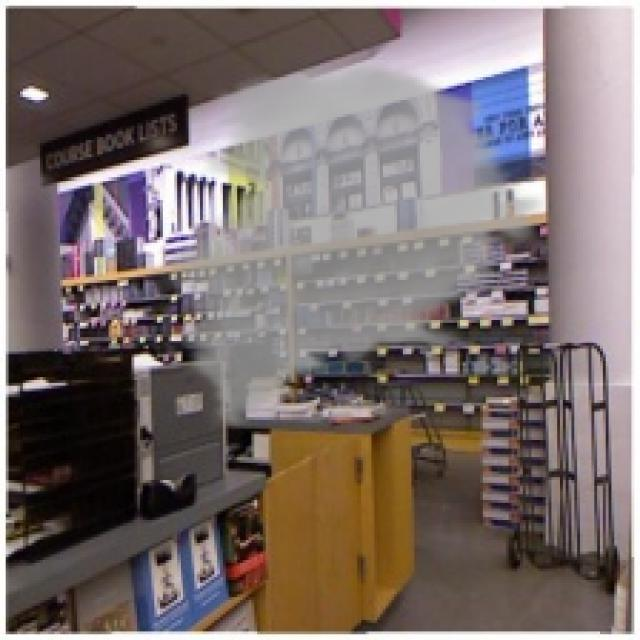Smoke: (148, 57, 552, 429)
